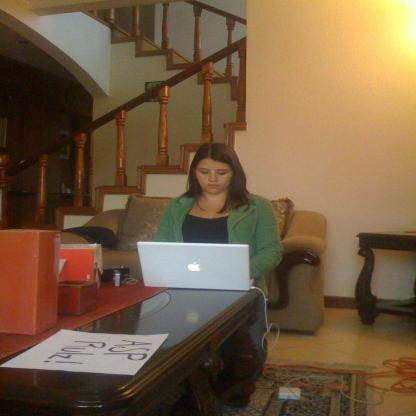board: (135, 240, 256, 291)
